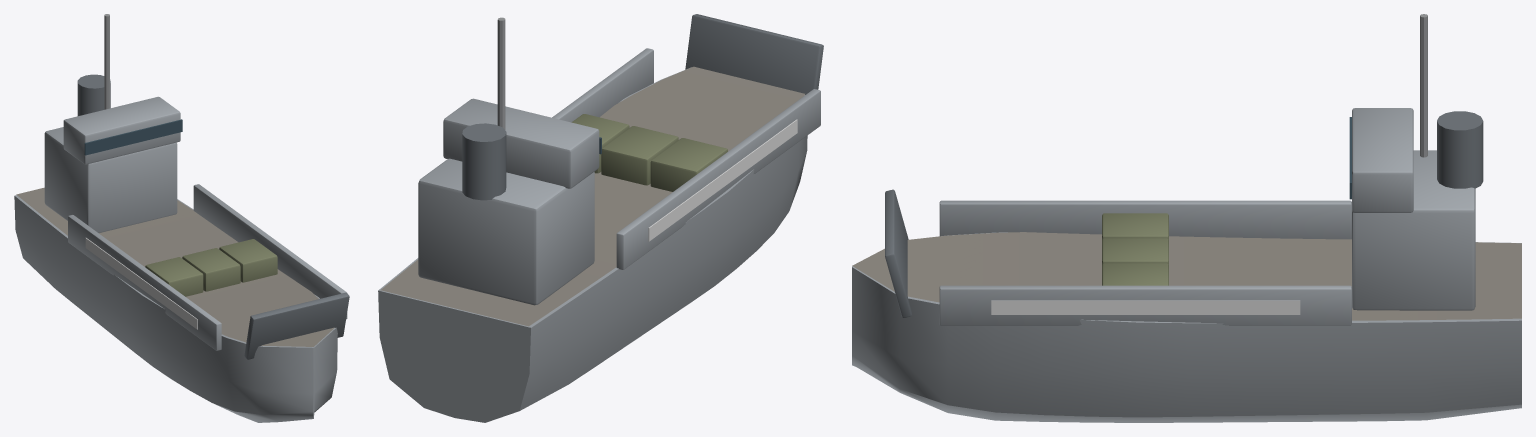
The model's file is transport.glb.
3 renders of one model, left to right at view 1: azimuth 30°, elevation 25°; view 2: azimuth 150°, elevation 25°; view 3: azimuth 270°, elevation 25°, orthographic. The views are drawn at different scales.
Parts seen in each view (by area): view 1: body; view 2: body; view 3: body.
Boxes of the visible parts, x1,y1,x2,y2 form: body: [14, 14, 349, 422]; body: [378, 14, 823, 422]; body: [852, 14, 1521, 422].
Bounding box in the file's own units: 4.2 × 8.4 × 13.
